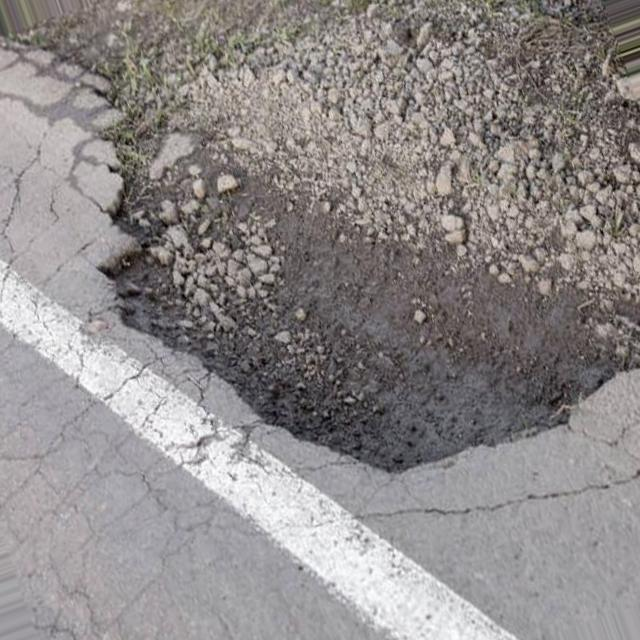Pinggir: (100, 65, 640, 470)
